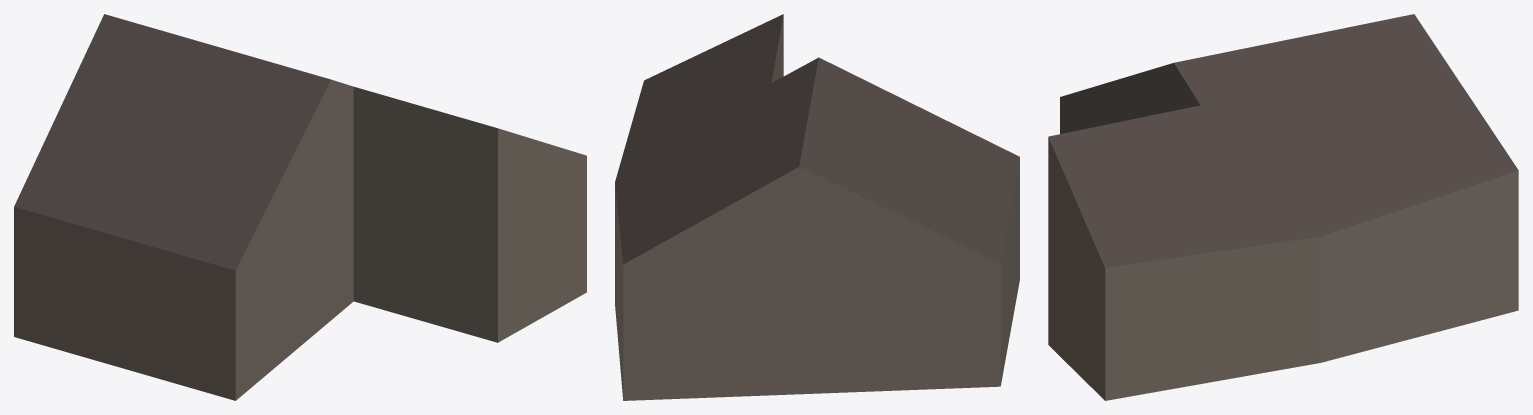
The picture shows the model from 3 angles, left to right: view 1: azimuth 30°, elevation 25°; view 2: azimuth 150°, elevation 25°; view 3: azimuth 270°, elevation 25°; orthographic projection. The views are drawn at different scales.
Visible parts, largest first — view 1: HP-w1198845806; view 2: HP-w1198845806; view 3: HP-w1198845806.
Boxes of the visible parts, bbox=[...] form: HP-w1198845806: bbox=[14, 14, 586, 400]; HP-w1198845806: bbox=[615, 14, 1019, 400]; HP-w1198845806: bbox=[1048, 14, 1518, 400].
Bounding box in the file's own units: 22.91 × 11.09 × 20.23.
